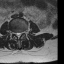CCS_normal: (17, 30, 19, 41)
LFS_severe_stenosis: (22, 28, 24, 35)
LLS_normal: (19, 29, 22, 38)
RFS_stenosis: (12, 28, 15, 36)
RLS_normal: (15, 29, 17, 37)
